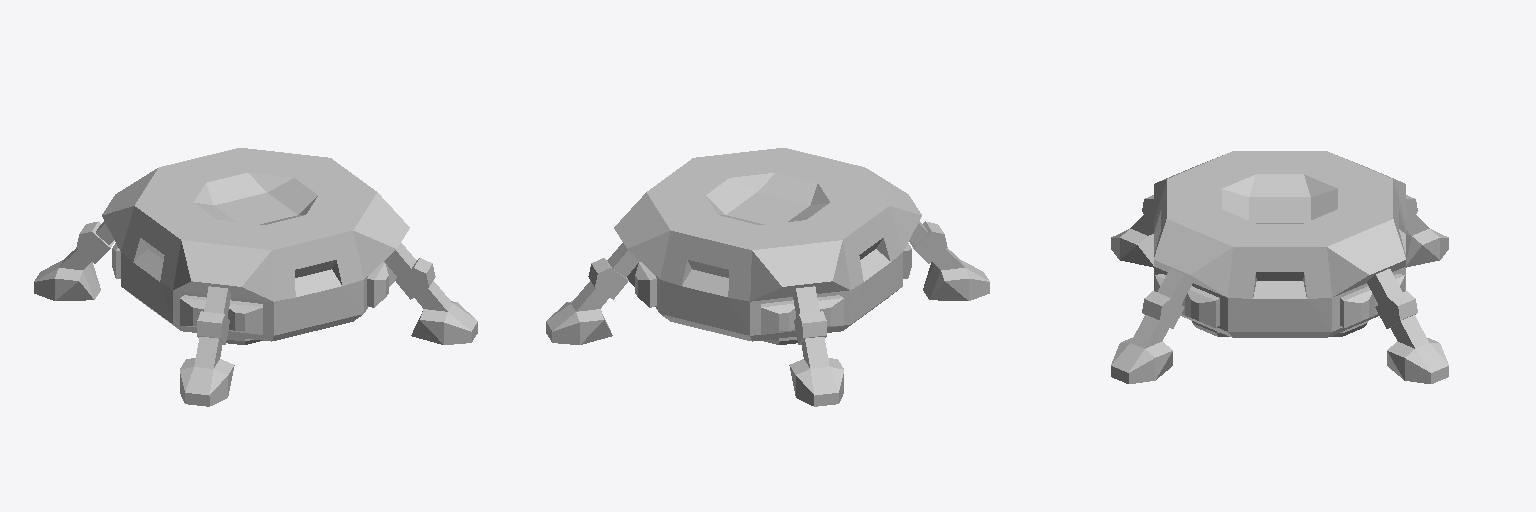
Rendered from lander_base.obj.
3 renders of one model, left to right at view 1: azimuth 30°, elevation 25°; view 2: azimuth 150°, elevation 25°; view 3: azimuth 270°, elevation 25°, orthographic.
Parts seen in each view (by area): view 1: lander_base_Cylinder.2690; view 2: lander_base_Cylinder.2690; view 3: lander_base_Cylinder.2690.
Part boxes in pixels (x1,y1,x2,y2): lander_base_Cylinder.2690: (34,148,477,406); lander_base_Cylinder.2690: (546,148,989,406); lander_base_Cylinder.2690: (1111,151,1448,383).
Size of the model in its own units: 1.34 by 0.5 by 1.34.